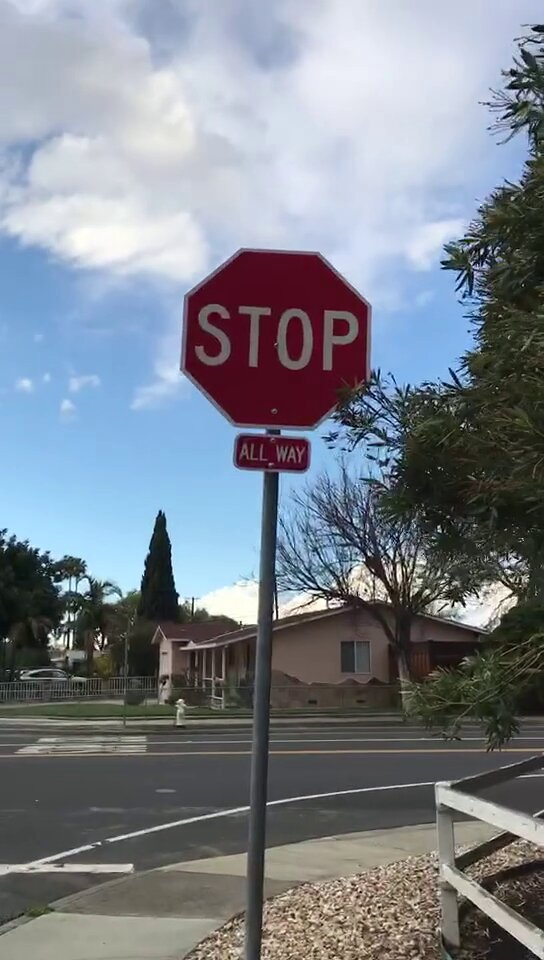stop_sign: (182, 248, 372, 429)
